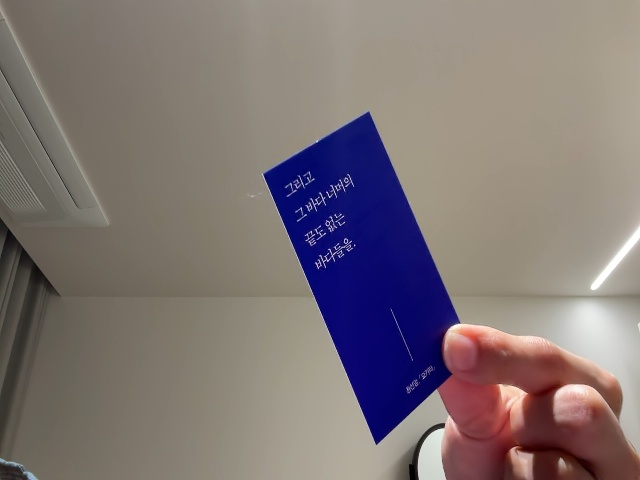card: (262, 112, 483, 446)
